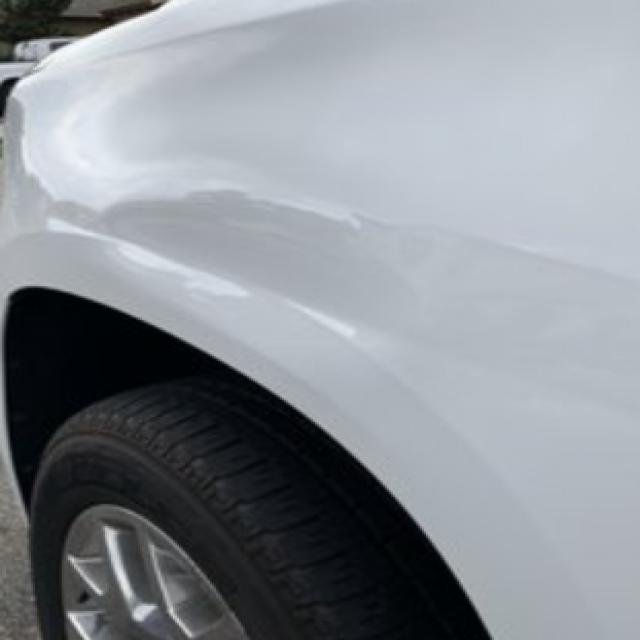dents: (340, 207, 431, 267)
